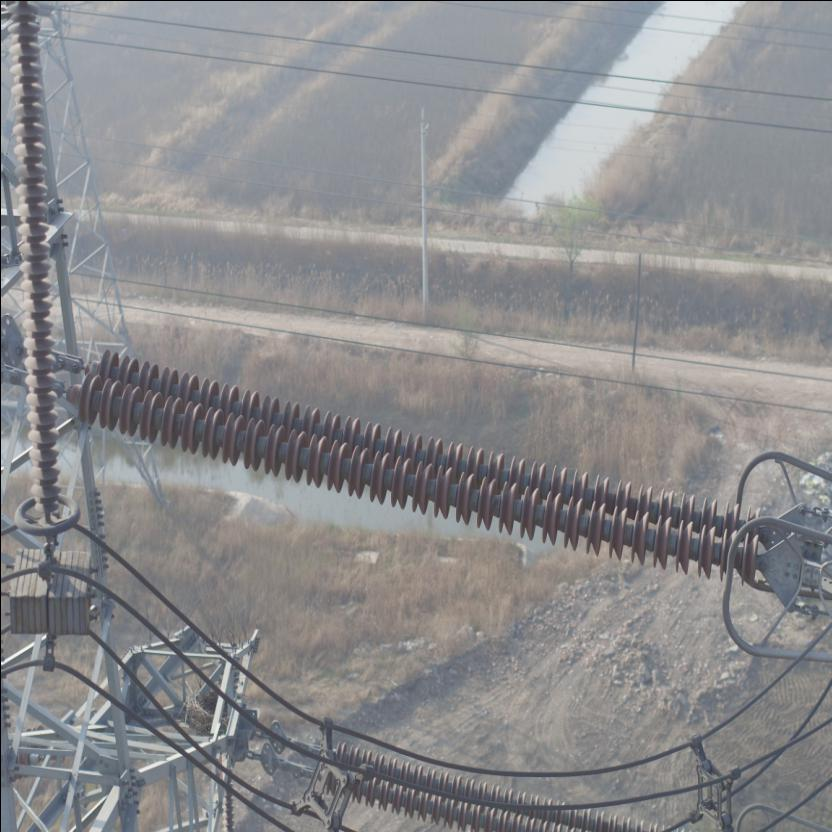insulator: (52, 342, 784, 587)
